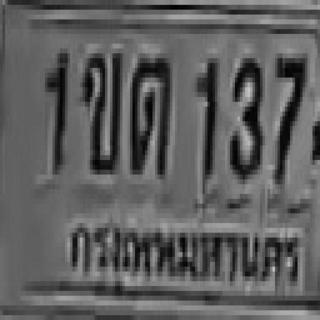A02: (80, 48, 120, 170)
A21: (128, 51, 170, 172)
N01: (44, 48, 66, 170), (194, 53, 216, 175)
N03: (228, 53, 260, 175)
N04: (310, 51, 320, 182)
N07: (272, 53, 305, 179)
P04: (63, 207, 308, 296)
